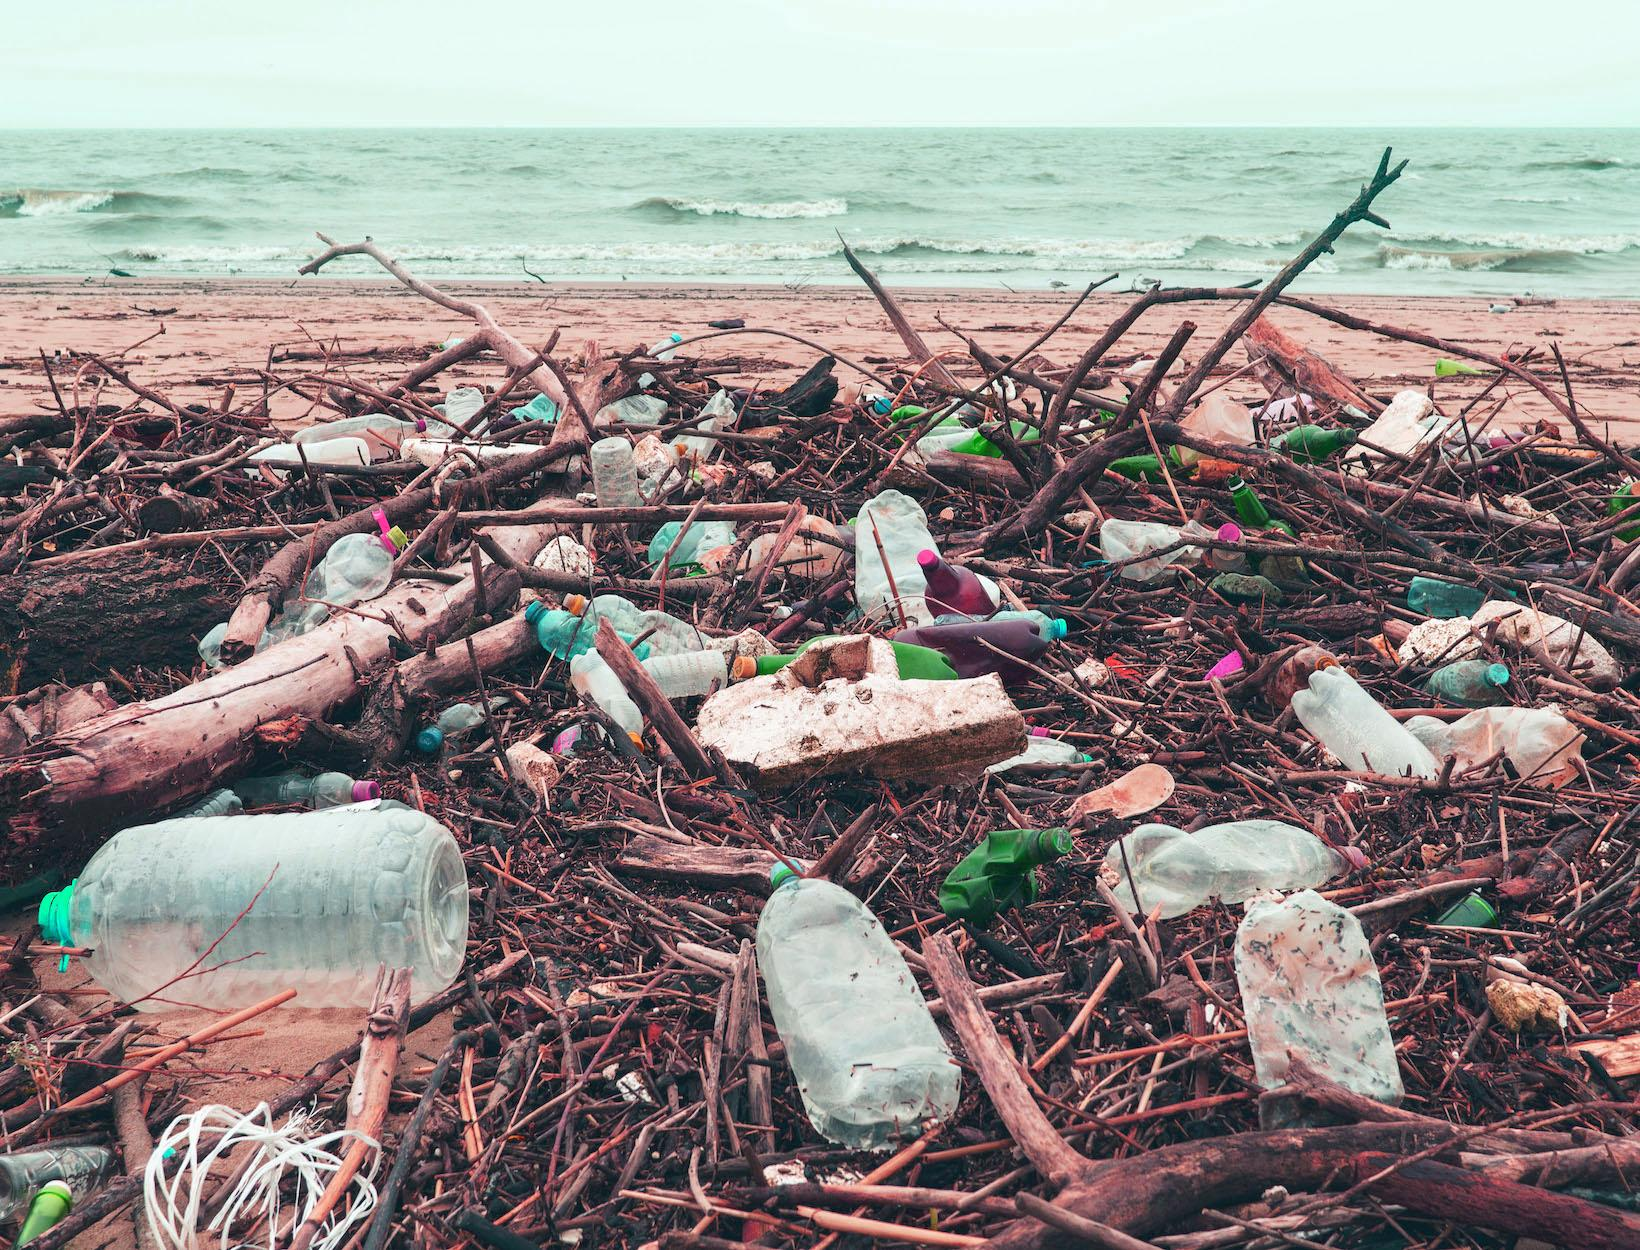Plastic: (32, 781, 471, 1006), (758, 861, 965, 1144), (1098, 823, 1352, 924), (1285, 671, 1433, 783), (918, 544, 1071, 647)
